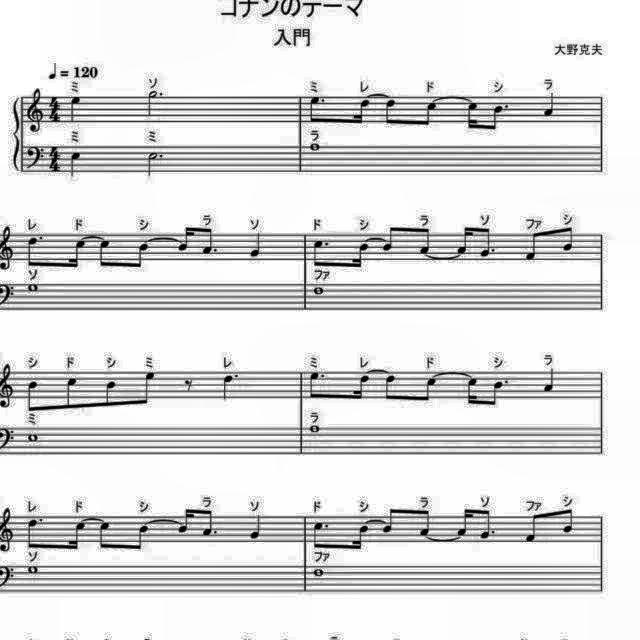Bass-clef: (25, 144, 47, 172)
Eighth-note: (136, 370, 160, 410), (24, 231, 48, 269), (61, 373, 83, 413), (486, 375, 510, 411), (486, 99, 510, 135), (130, 521, 154, 555), (130, 241, 154, 275), (306, 368, 330, 402), (24, 514, 46, 550), (524, 512, 546, 548), (524, 226, 546, 262), (477, 506, 499, 542), (477, 222, 499, 258), (311, 517, 334, 551), (311, 236, 334, 270), (304, 92, 328, 124), (96, 234, 116, 272), (24, 376, 44, 414), (96, 516, 116, 552), (418, 98, 442, 128), (199, 508, 221, 540), (418, 374, 440, 406), (199, 226, 221, 258), (100, 375, 120, 409), (381, 94, 401, 128), (378, 370, 398, 402), (558, 224, 578, 256), (380, 505, 400, 537), (379, 224, 399, 256), (558, 507, 578, 537), (417, 508, 435, 540), (417, 227, 435, 257)
Eighth-rest: (180, 376, 197, 396)
Full-note: (23, 279, 41, 297), (310, 283, 328, 297), (25, 563, 43, 577), (310, 565, 326, 579), (308, 140, 324, 154), (24, 431, 40, 445), (308, 422, 320, 436)
Half-dot: (142, 88, 166, 119), (143, 148, 165, 180)
Quarter-dot: (218, 368, 242, 400)
Quarter-note: (247, 231, 266, 261), (540, 90, 558, 120), (542, 365, 560, 395), (247, 514, 266, 542), (68, 148, 84, 178), (68, 93, 84, 123)
Sixteenth-note: (65, 234, 89, 274), (65, 517, 89, 555), (348, 240, 372, 272), (348, 524, 372, 556), (462, 374, 482, 411), (351, 370, 374, 402), (454, 504, 474, 540), (174, 505, 196, 537), (174, 224, 196, 256), (462, 99, 482, 133), (454, 224, 474, 256), (351, 97, 372, 127)
Treble-clef: (25, 87, 47, 135)
